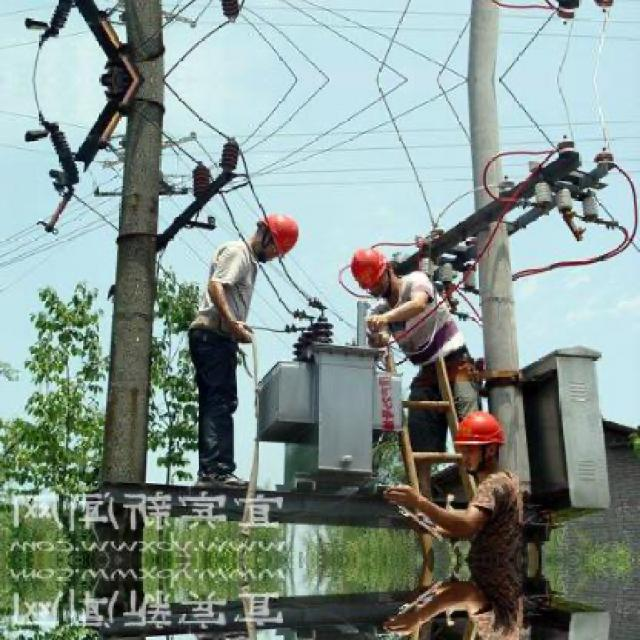helmet: (452, 408, 506, 469), (343, 241, 397, 297), (249, 210, 306, 258)
